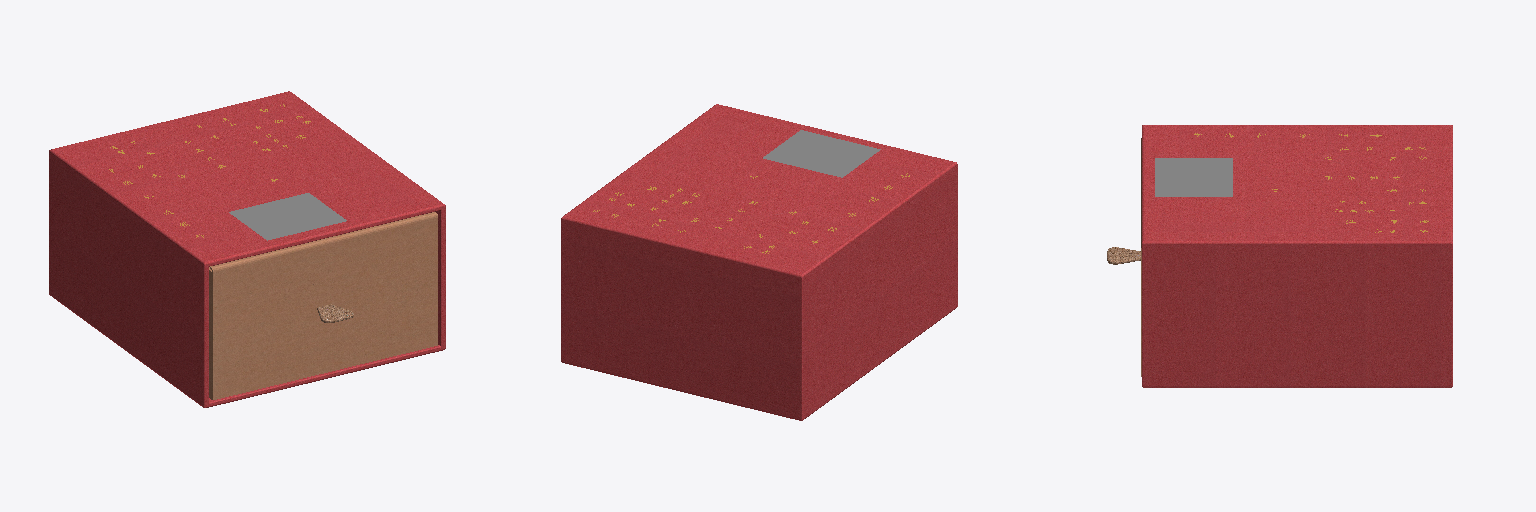
The picture shows the model from 3 angles: view 1: azimuth 30°, elevation 25°; view 2: azimuth 150°, elevation 25°; view 3: azimuth 270°, elevation 25°; orthographic projection.
Parts seen in each view (by area): view 1: DirectConnectNode_11_DC_Shell, Plane010, Rectangle001; view 2: DirectConnectNode_11_DC_Shell, Plane010, Rectangle001; view 3: DirectConnectNode_11_DC_Shell, Plane010, Rectangle001.
Part boxes in pixels (x1,y1,x2,y2): DirectConnectNode_11_DC_Shell: (49,91,445,407); Plane010: (165,135,415,240); Rectangle001: (229,193,346,240); DirectConnectNode_11_DC_Shell: (561,104,957,420); Plane010: (636,114,886,220); Rectangle001: (763,130,880,177); DirectConnectNode_11_DC_Shell: (1107,125,1452,387); Plane010: (1159,154,1343,231); Rectangle001: (1155,158,1232,196).
Size of the model in its own units: 121 by 70.21 by 150.
Materials: 7 (4 with a texture image).